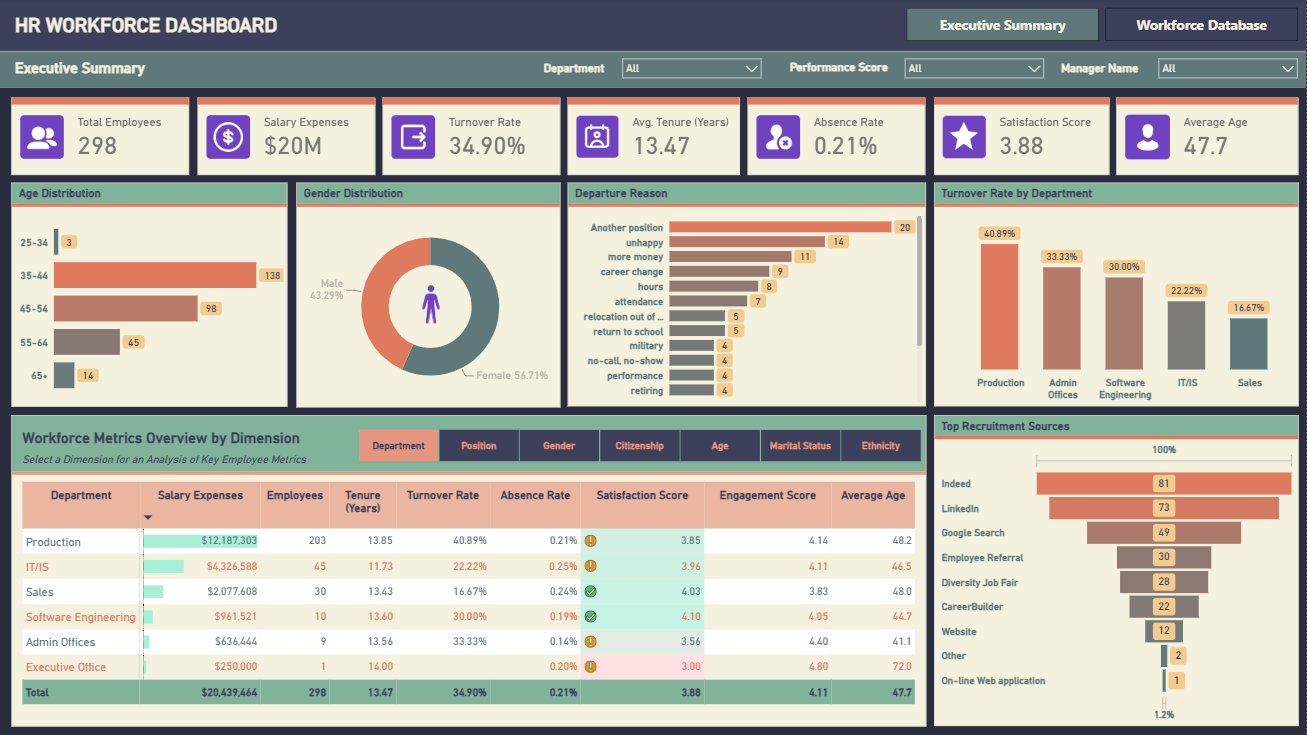

The page's visual inventory and layout, read from the dashboard file:
{"tool":"powerbi","page":{"name":"Executive Summary","canvas":[1920,1080],"ordinal":0},"visuals":[{"type":"shape","box":[0,0,1920.5,77],"z":0},{"type":"textbox","box":[18.9,16,674.3,45.2],"z":1000},{"type":"cardVisual","fields":{"Data":["DAX Measures.Total Employees"]},"box":[18.9,145.3,260.5,113.7],"z":2000},{"type":"cardVisual","fields":{"Data":["DAX Measures.Total Salary Expenses"]},"box":[291.1,145.3,260.5,113.7],"z":3000},{"type":"cardVisual","fields":{"Data":["DAX Measures.Employee Turnover Rate"]},"box":[563.2,145.3,260.5,113.7],"z":4000},{"type":"cardVisual","fields":{"Data":["DAX Measures.Avg. Tenure"]},"box":[835.3,145.3,252.6,113.7],"z":5000},{"type":"cardVisual","fields":{"Data":["DAX Measures.Avg. Absenteeism Rate"]},"box":[1099.5,145.3,260.5,113.7],"z":6000},{"type":"donutChart","title":"Gender Distribution","fields":{"Category":["Employee.Gender"],"Y":["DAX Measures.Total Employees"]},"box":[436.6,269.3,386.9,329.5],"z":6000,"group":"g1"},{"type":"cardVisual","fields":{"Data":["Measure.Avg. Satisfaction Score"]},"box":[1371.6,145.3,257.4,113.7],"z":7000},{"type":"cardVisual","fields":{"Data":["DAX Measures.Avg. Age"]},"box":[1640.5,145.3,266.8,113.7],"z":8000},{"type":"image","box":[616.7,407.1,35.7,81.6],"z":8000,"group":"g1"},{"type":"shape","box":[0,77,1920.5,53.2],"z":9000},{"type":"textbox","box":[18.9,85.1,287.3,46.6],"z":10000},{"type":"textbox","box":[1553.6,85.5,137.8,34.1],"z":11000},{"type":"slicer","fields":{"Values":["Department.Department"]},"box":[905.1,77.6,224.5,46.5],"z":12000},{"type":"textbox","box":[794.6,86.9,109.9,34.1],"z":13000},{"type":"slicer","fields":{"Values":["Performance.PerformanceScore"]},"box":[1319.6,77.7,224.5,46.5],"z":14000},{"type":"textbox","box":[1156.2,84.3,163.7,33.3],"z":15000},{"type":"slicer","fields":{"Values":["Employee.ManagerName"]},"box":[1691.4,77.7,224.5,46.5],"z":16000},{"type":"barChart","title":"Age Distribution","fields":{"Category":["Employee.Age Category","Department.Department"],"Y":["DAX Measures.Total Employees"]},"box":[18.7,269.3,405,328.6],"z":17000},{"type":"group","id":"g1","title":"Group 1","box":[436.6,269.3,387.2,328.2],"z":18000},{"type":"barChart","title":"Departure Reason","fields":{"Category":["Employee.TerminationReason"],"Y":["DAX Measures.Total Employees"]},"box":[834.9,269.3,525.8,328.2],"z":19000},{"type":"clusteredColumnChart","title":"Turnover Rate by Department","fields":{"Category":["Department.Department"],"Y":["DAX Measures.Employee Turnover Rate"]},"box":[1371.9,269.3,535.4,328.2],"z":20000},{"type":"funnel","title":"Top Recruitment Sources","fields":{"Category":["Employee.RecruitmentSource"],"Y":["DAX Measures.Total Employees"]},"box":[1371.9,610.3,535.4,455.7],"z":21000},{"type":"pivotTable","title":"Workforce Metrics Overview by Dimension","fields":{"Rows":["Department.Department"],"Values":["Measure.Total Salary Expenses","DAX Measures.Total Employees","Measure.Avg. Tenure","DAX Measures.Employee Turnover Rate","DAX Measures.Avg. Absenteeism Rate","Measure.Avg. Satisfaction Score","Measure.Avg. Engagement Score","DAX Measures.Avg. Age"]},"box":[18.3,610.8,1342.7,456.7],"z":22000},{"type":"advancedSlicerVisual","fields":{"Values":["Demographics.Demographics"]},"box":[528.3,627.3,830.9,51.4],"z":23000},{"type":"pageNavigator","box":[1331.7,12.8,574.1,49.5],"z":24000}]}

Visuals, with their boxes in screenshot pixels (x1, y1, x2, y2), scaled from the page's 1920x1080 canvas onto the 1307x735 screenshot:
shape: [0,0,1306,52]
textbox: [13,11,472,42]
cardVisual - DAX Measures.Total Employees: [13,99,190,176]
cardVisual - DAX Measures.Total Salary Expenses: [198,99,375,176]
cardVisual - DAX Measures.Employee Turnover Rate: [383,99,561,176]
cardVisual - DAX Measures.Avg. Tenure: [569,99,741,176]
cardVisual - DAX Measures.Avg. Absenteeism Rate: [748,99,926,176]
"Gender Distribution" donutChart: [297,183,561,408]
cardVisual - Measure.Avg. Satisfaction Score: [934,99,1109,176]
cardVisual - DAX Measures.Avg. Age: [1117,99,1298,176]
image: [420,277,444,333]
shape: [0,52,1306,89]
textbox: [13,58,208,90]
textbox: [1058,58,1151,81]
slicer - Department.Department: [616,53,769,84]
textbox: [541,59,616,82]
slicer - Performance.PerformanceScore: [898,53,1051,85]
textbox: [787,57,898,80]
slicer - Employee.ManagerName: [1151,53,1304,85]
"Age Distribution" barChart: [13,183,288,407]
"Group 1" group: [297,183,561,407]
"Departure Reason" barChart: [568,183,926,407]
"Turnover Rate by Department" clusteredColumnChart: [934,183,1298,407]
"Top Recruitment Sources" funnel: [934,415,1298,725]
"Workforce Metrics Overview by Dimension" pivotTable: [12,416,926,726]
advancedSlicerVisual - Demographics.Demographics: [360,427,925,462]
pageNavigator: [907,9,1297,42]
